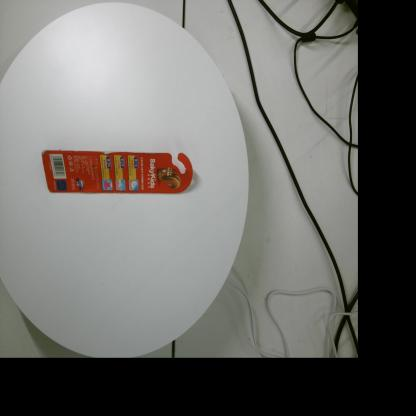Personal Hygiene: (41, 150, 193, 193)
